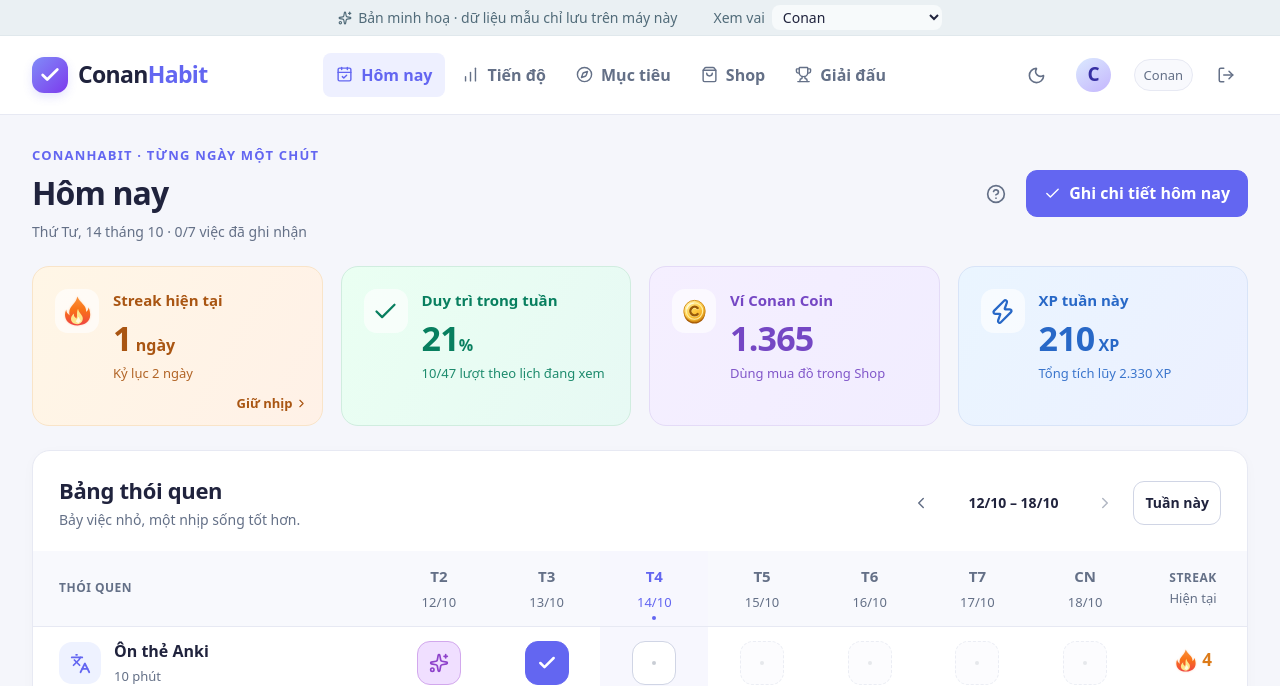
Test: working app flows in a local DOM › opens weekly history and disables learner edits for prior weeks
Expected: the heading "Hôm nay" is shown, [32,171,168,214]
Click the button "Tiến độ".
click(504, 75)  # box [450,53,559,97]
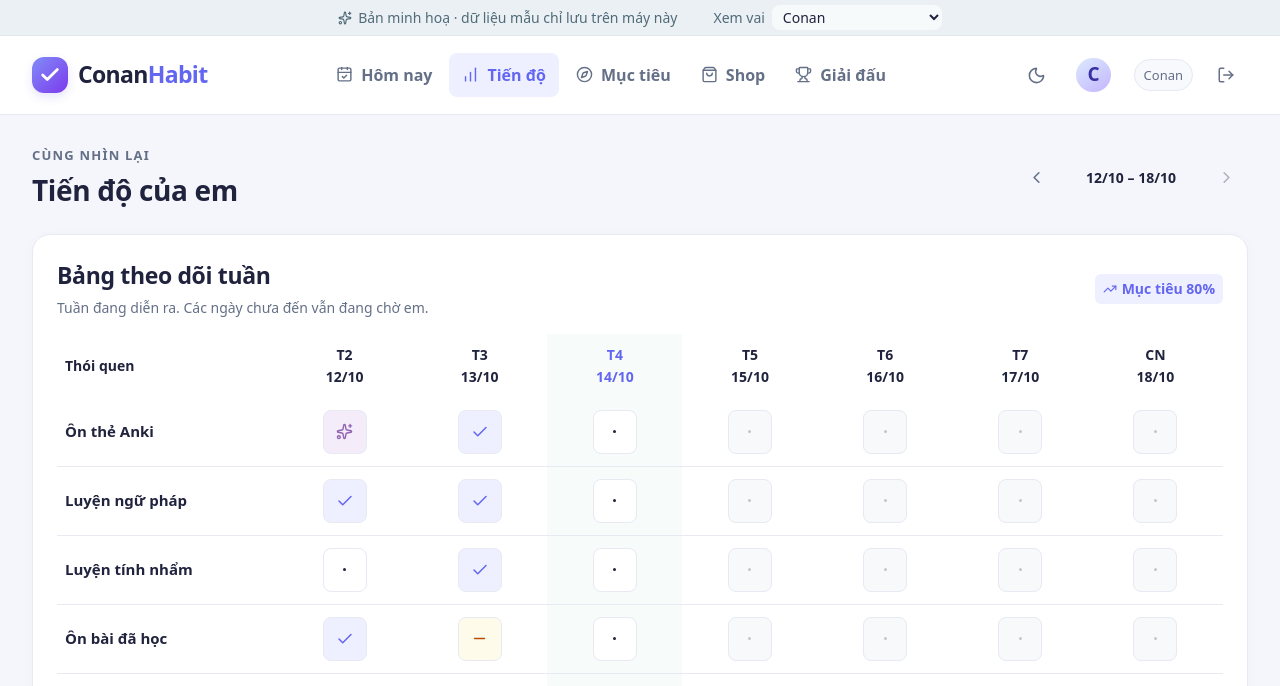
Result: the heading "Tiến độ của em" is shown at [32,171,238,210]
Click the button named "Tuần trước".
click(1036, 178)  # box [1014,156,1058,200]
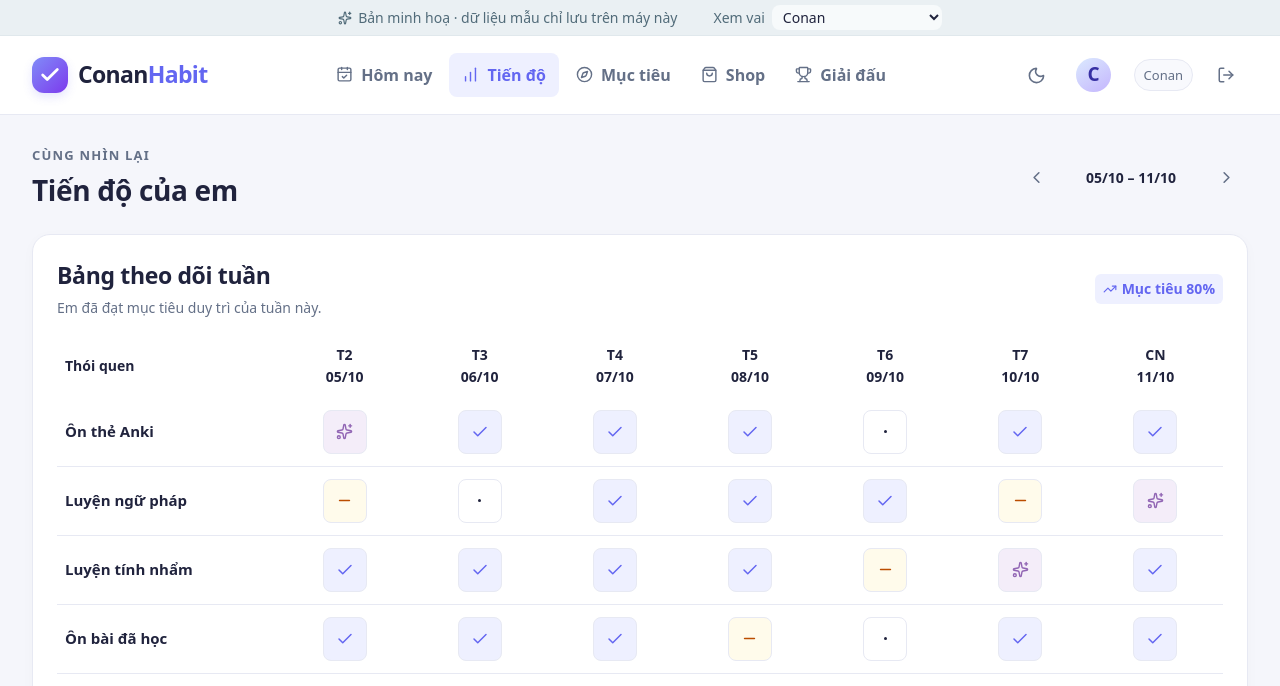
Click the button named "Ôn thẻ Anki,".
click(345, 432)  # box [323,410,367,454]
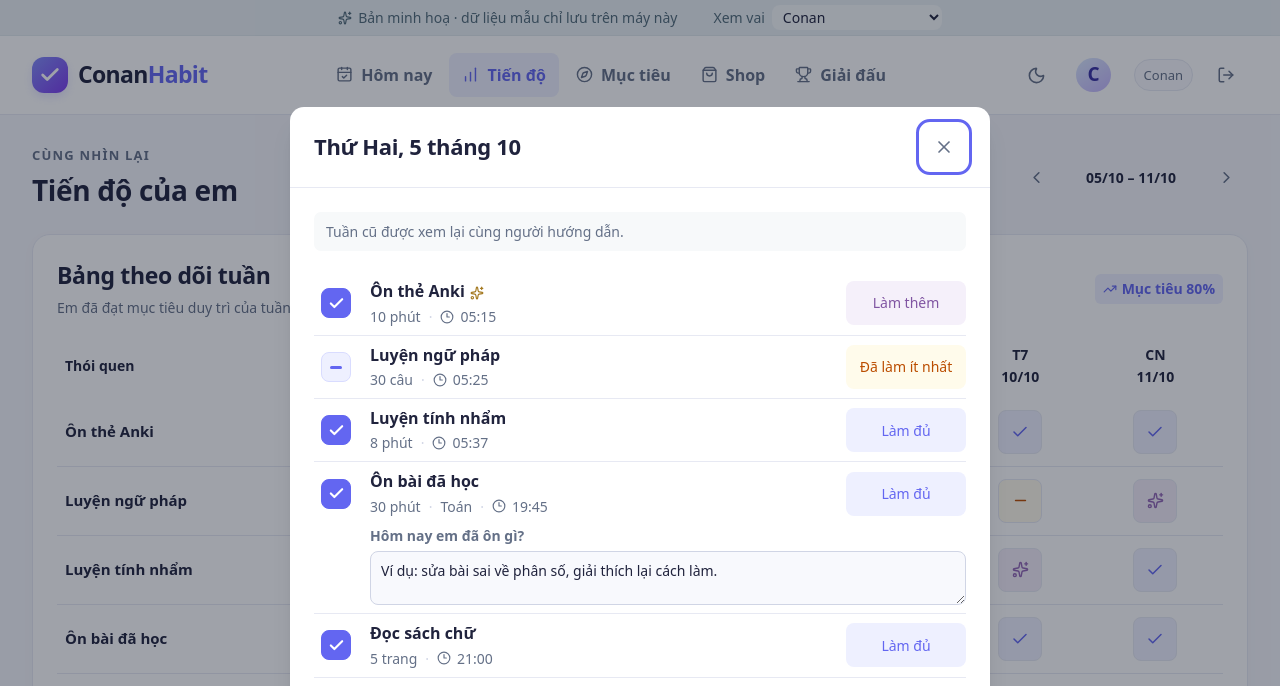
Result: the checkbox named "Ôn thẻ Anki" is disabled at [314,281,358,325]
Result: the text "Tuần cũ được xem lại cùng người hướng dẫn." is shown at [314,212,966,251]
